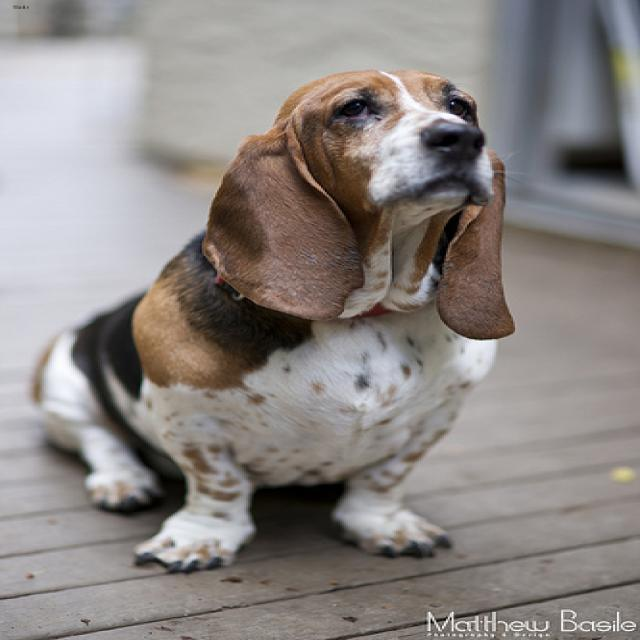dog-basset_hound: (13, 58, 529, 581)
